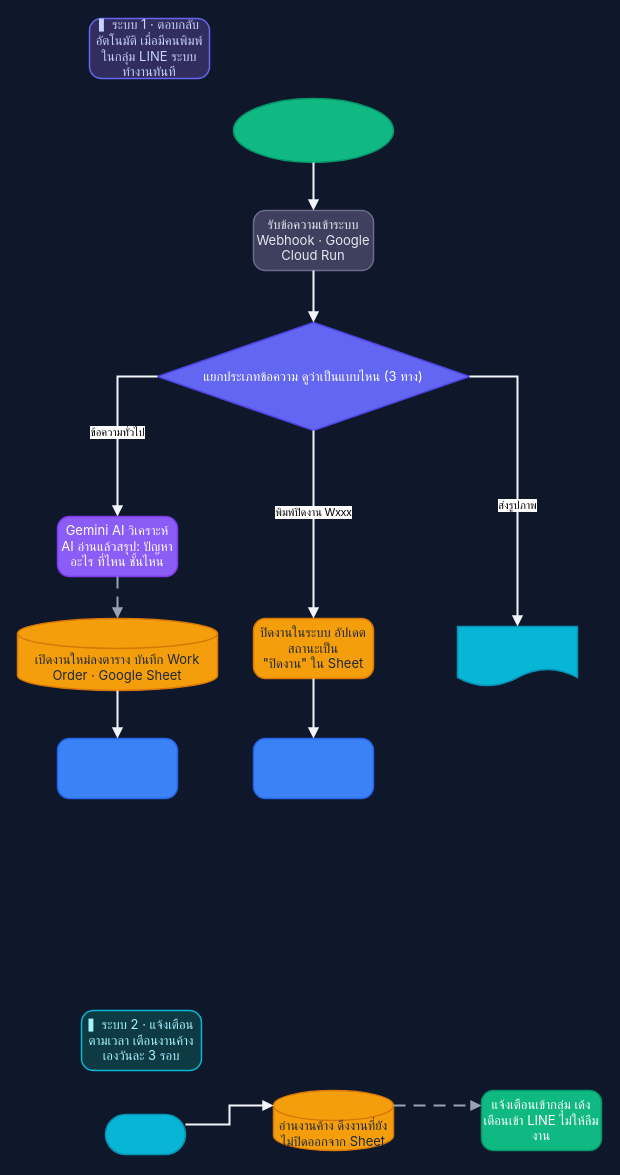
Image size: 620x1175. Some labels were removed from this diagram. The shapes that lost their labels are listed below. From the top down, each one's box as (x1, y1, x2, y2) in pixels, then its label:
(232, 97, 394, 163): กลุ่ม LINE ลูกบ้าน/ทีมงานพิมพ์แจ้งปัญหา
(456, 625, 578, 687): แนบรูปกับงาน เก็บรูปก่อน/หลังเป็นหลักฐาน (Cloud Storage)
(56, 737, 178, 799): ตอบเลขงานกลับกลุ่ม แจ้งเลข Work Order ทันที
(252, 737, 374, 799): ตอบงานค้างที่เหลือ สรุปงานที่ยังไม่ปิดให้กลุ่มเห็น
(104, 1113, 186, 1155): ตั้งเวลา 3 รอบ/วัน 08:30 · 12:00 · 17:30
